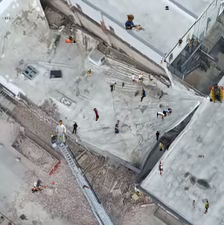Human: (157, 107, 196, 121), (55, 120, 78, 142), (125, 14, 146, 32), (131, 73, 160, 85), (208, 84, 224, 103), (31, 179, 49, 194), (192, 199, 209, 214), (147, 57, 167, 68), (83, 108, 99, 121), (110, 82, 127, 92), (158, 161, 168, 177), (178, 38, 192, 48), (156, 131, 169, 141), (114, 120, 120, 137), (159, 142, 170, 151), (140, 86, 146, 102), (65, 36, 78, 43), (193, 39, 198, 49), (87, 69, 92, 78), (82, 185, 93, 189), (51, 179, 55, 188), (2, 17, 11, 20), (197, 155, 204, 158), (165, 6, 169, 10), (167, 84, 170, 88), (79, 150, 81, 155), (197, 113, 199, 118), (68, 58, 71, 61)
